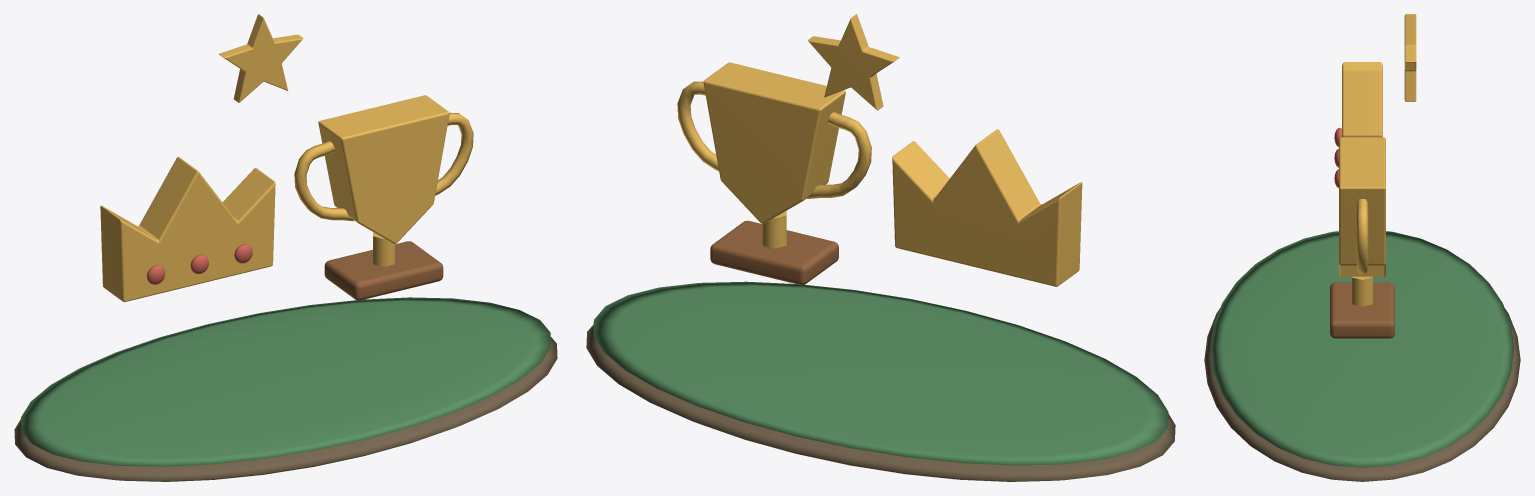
Rendered from complete-third-proud-crowns.glb.
The picture shows the model from 3 angles, left to right: view 1: azimuth 30°, elevation 25°; view 2: azimuth 150°, elevation 25°; view 3: azimuth 270°, elevation 25°; orthographic projection. The views are drawn at different scales.
Parts seen in each view (by area): view 1: complete-third-proud-crowns_surface_01, complete-third-proud-crowns_surface_02, complete-third-proud-crowns_surface_00, complete-third-proud-crowns_surface_04, complete-third-proud-crowns_surface_03; view 2: complete-third-proud-crowns_surface_01, complete-third-proud-crowns_surface_02, complete-third-proud-crowns_surface_00, complete-third-proud-crowns_surface_04; view 3: complete-third-proud-crowns_surface_01, complete-third-proud-crowns_surface_02, complete-third-proud-crowns_surface_00, complete-third-proud-crowns_surface_04.
Boxes of the visible parts, bbox=[...] form: complete-third-proud-crowns_surface_01: bbox=[21, 297, 550, 466]; complete-third-proud-crowns_surface_02: bbox=[100, 14, 473, 302]; complete-third-proud-crowns_surface_00: bbox=[14, 337, 557, 481]; complete-third-proud-crowns_surface_04: bbox=[324, 241, 443, 300]; complete-third-proud-crowns_surface_03: bbox=[146, 244, 252, 284]; complete-third-proud-crowns_surface_01: bbox=[593, 281, 1168, 465]; complete-third-proud-crowns_surface_02: bbox=[677, 14, 1082, 286]; complete-third-proud-crowns_surface_00: bbox=[586, 324, 1175, 481]; complete-third-proud-crowns_surface_04: bbox=[710, 220, 838, 285]; complete-third-proud-crowns_surface_01: bbox=[1210, 231, 1514, 467]; complete-third-proud-crowns_surface_02: bbox=[1339, 14, 1416, 306]; complete-third-proud-crowns_surface_00: bbox=[1204, 308, 1520, 481]; complete-third-proud-crowns_surface_04: bbox=[1330, 282, 1394, 338].
Bounding box in the file's own units: 4.56 × 3.15 × 2.5.
